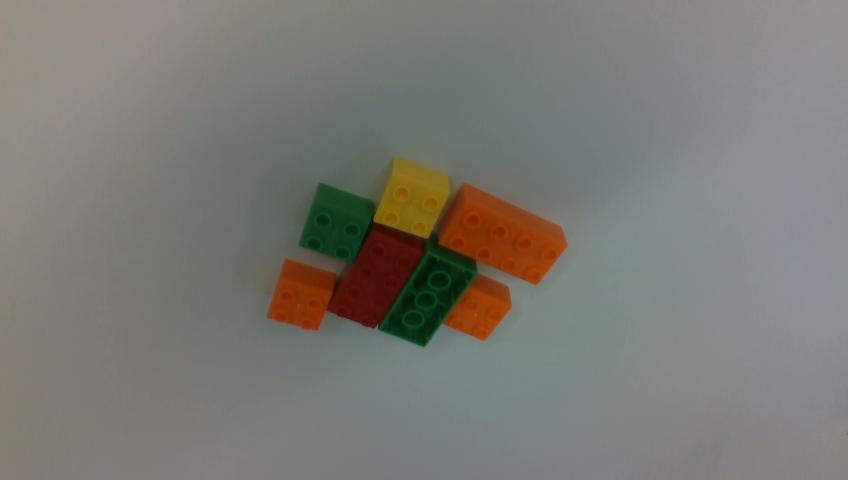2x2_green: (299, 183, 373, 262)
2x2_orange: (267, 259, 336, 330), (443, 274, 511, 339)
2x2_yellow: (374, 158, 449, 238)
4x2_green: (379, 239, 478, 345)
4x2_orange: (438, 183, 566, 283)
4x2_red: (327, 223, 423, 327)
